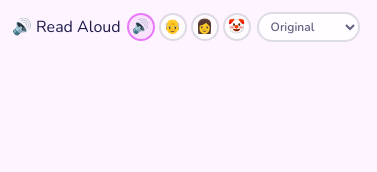
ReadAloud › speaks the given text and toggles to a Stop button
Click the button "🔊 Read Aloud" at [66, 27], box [12,15,121,39]
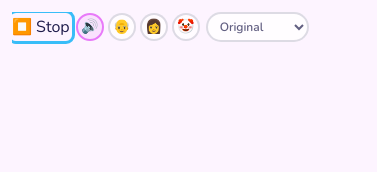
Result: the button "⏹️ Stop" is shown at [12,15,70,39]
